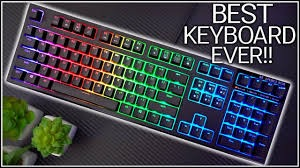keyboard: (6, 5, 293, 168)
